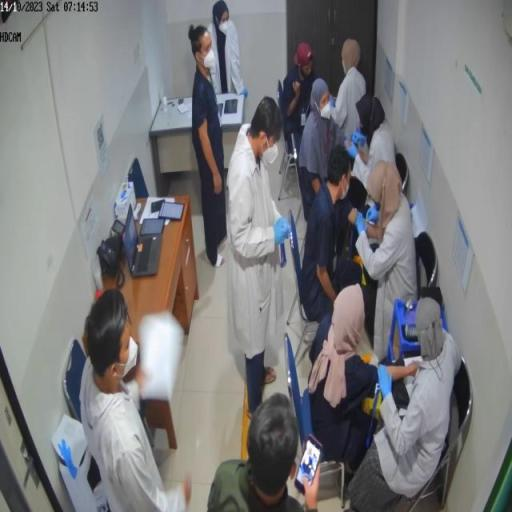person: (345, 295, 463, 510), (80, 290, 192, 510), (308, 284, 419, 478), (227, 97, 292, 420), (208, 393, 324, 511), (356, 157, 420, 364), (301, 146, 364, 350), (191, 25, 229, 270), (299, 79, 342, 223), (332, 40, 368, 145), (284, 43, 317, 153), (212, 1, 248, 99)
